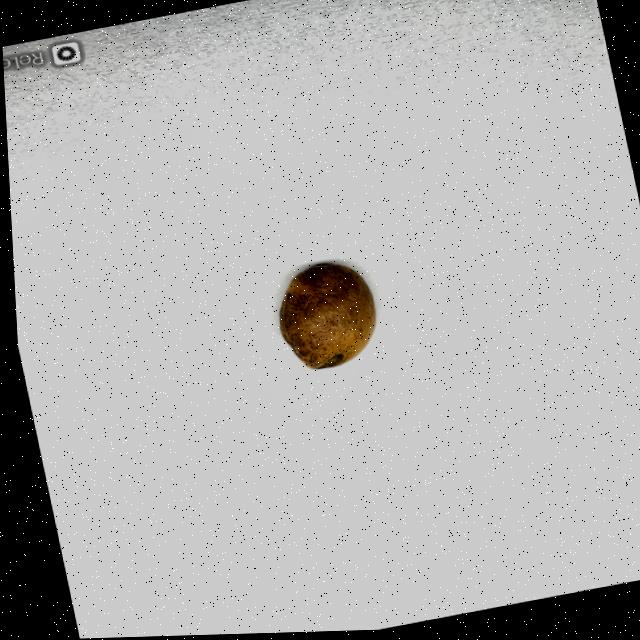Scorched: (264, 257, 385, 379)
